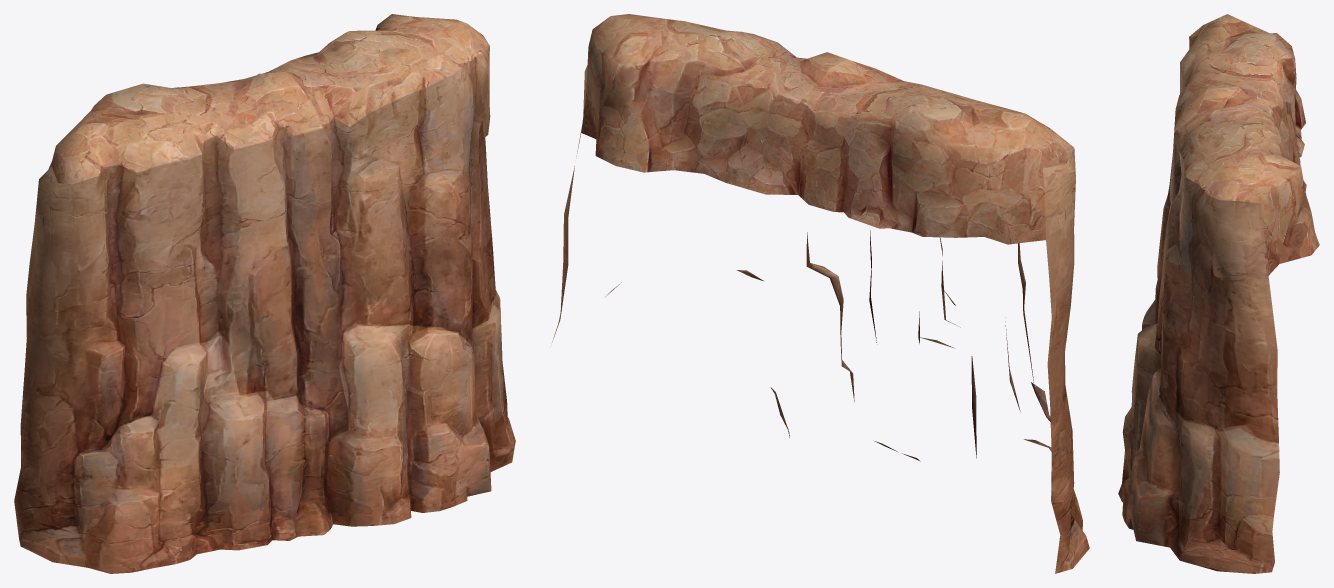
File: kor_wilds_cliff_40m_small_v2.glb
3 views of the same model, side by side, from view 1: azimuth 30°, elevation 25°; view 2: azimuth 150°, elevation 25°; view 3: azimuth 270°, elevation 25° (orthographic). The views are drawn at different scales.
Parts seen in each view (by area): view 1: kor_wilds_cliff_40m_small_v2; view 2: kor_wilds_cliff_40m_small_v2; view 3: kor_wilds_cliff_40m_small_v2.
Boxes of the visible parts, x1,y1,x2,y2 form: kor_wilds_cliff_40m_small_v2: [14, 14, 515, 573]; kor_wilds_cliff_40m_small_v2: [552, 14, 1089, 573]; kor_wilds_cliff_40m_small_v2: [1118, 14, 1319, 573].
Size of the model in its own units: 5.15 by 4.3 by 2.04.
Materials: 1 (1 with a texture image).
